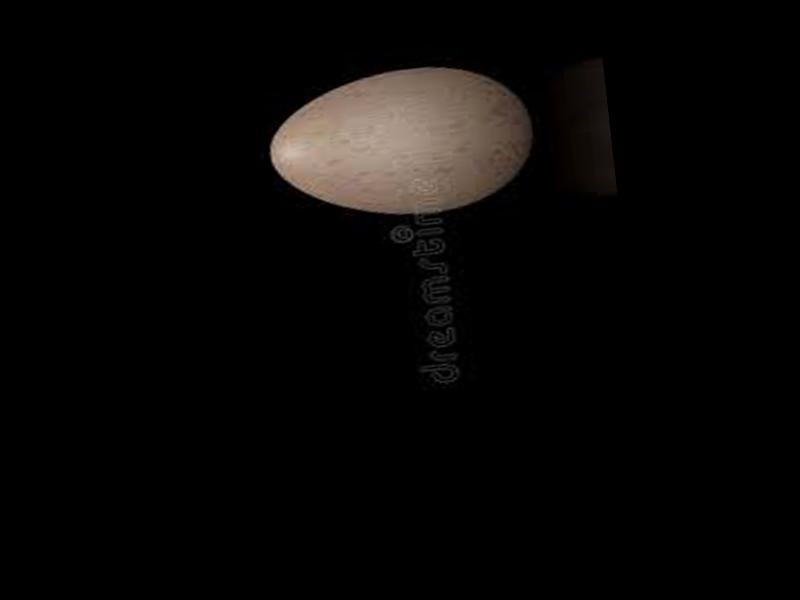Eggs: (261, 56, 540, 227)
